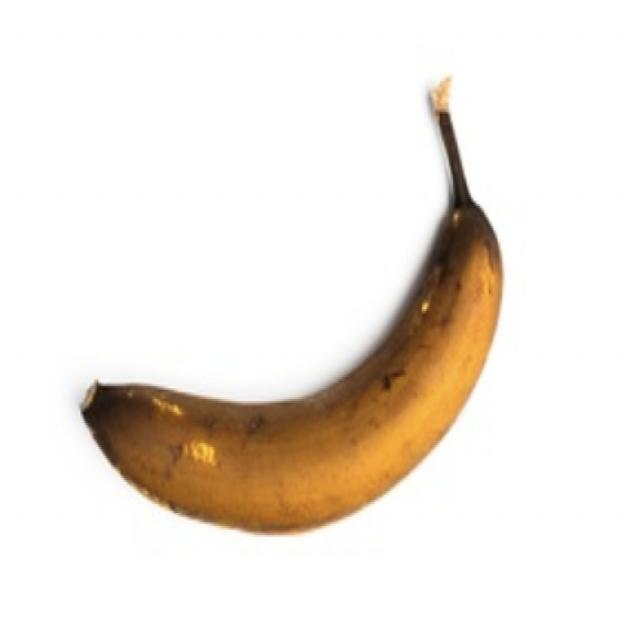rotten-banana: (85, 101, 504, 539)
